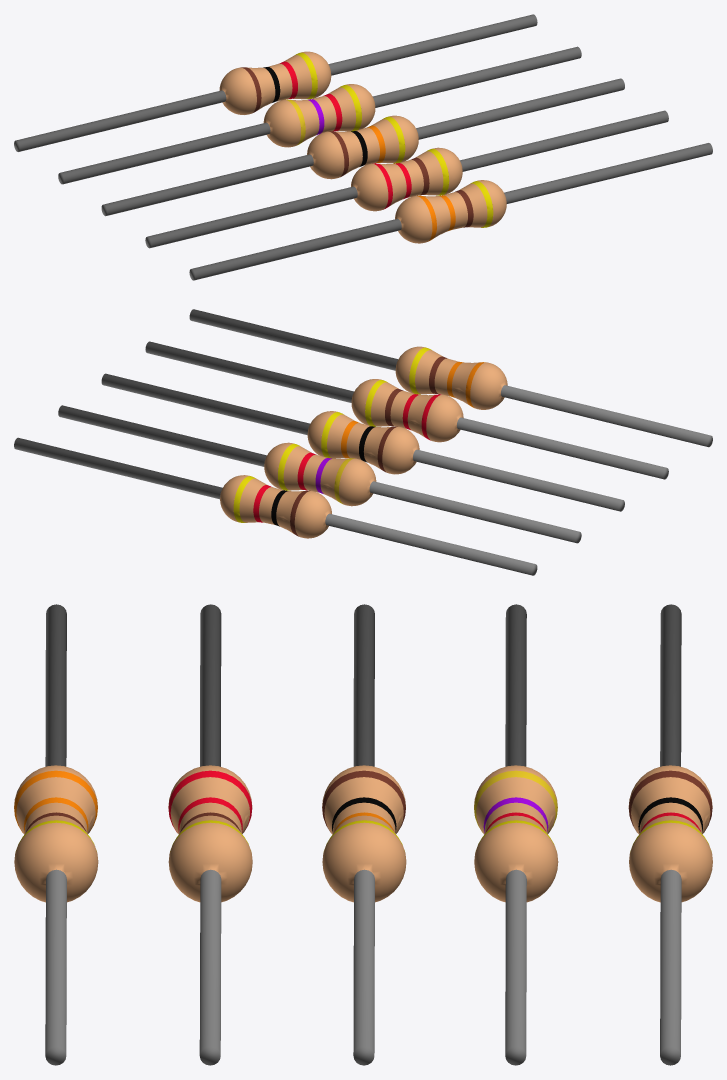
Rendered from 32. RESISTORS.gltf.
3 renders of one model, top to bottom at view 1: azimuth 30°, elevation 25°; view 2: azimuth 150°, elevation 25°; view 3: azimuth 270°, elevation 25°, orthographic. The views are drawn at different scales.
Visible parts, largest first — view 1: PRETO-material; view 2: PRETO-material; view 3: PRETO-material.
Part boxes in pixels (bbox=[...]): PRETO-material: bbox=[14, 14, 712, 280]; PRETO-material: bbox=[14, 309, 712, 575]; PRETO-material: bbox=[14, 604, 712, 1065].
Size of the model in its own units: 0.0299 by 0.0024 by 0.02.
